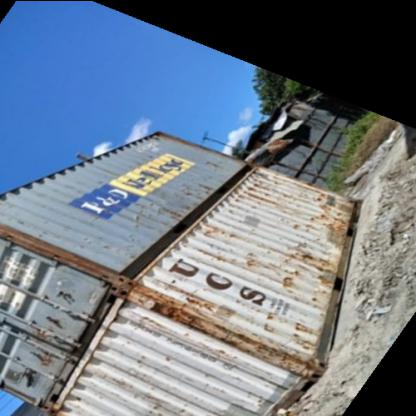Damage: (130, 279, 232, 341), (274, 235, 336, 303), (254, 316, 326, 372), (232, 168, 291, 208), (298, 191, 352, 234), (130, 200, 194, 231), (197, 221, 244, 241), (172, 179, 222, 197), (75, 231, 114, 253), (185, 246, 232, 264), (242, 244, 272, 272), (108, 377, 140, 393), (142, 400, 172, 416), (211, 346, 237, 364), (129, 353, 147, 370), (202, 159, 226, 169)
